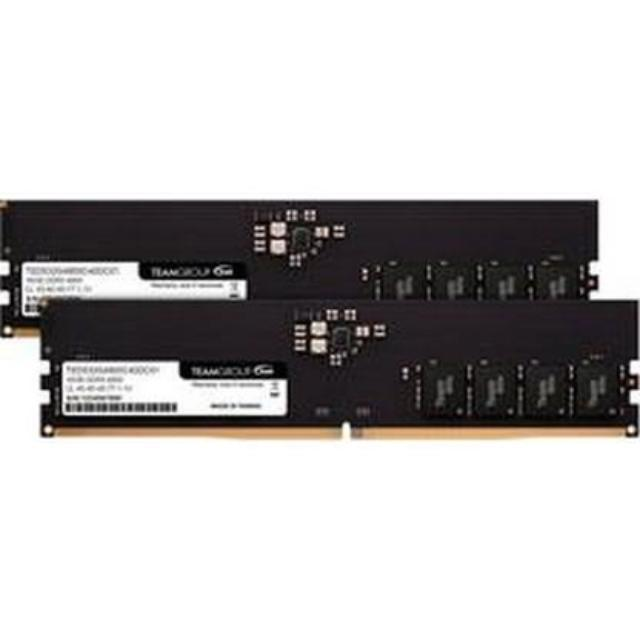RAM: (0, 190, 640, 450)
